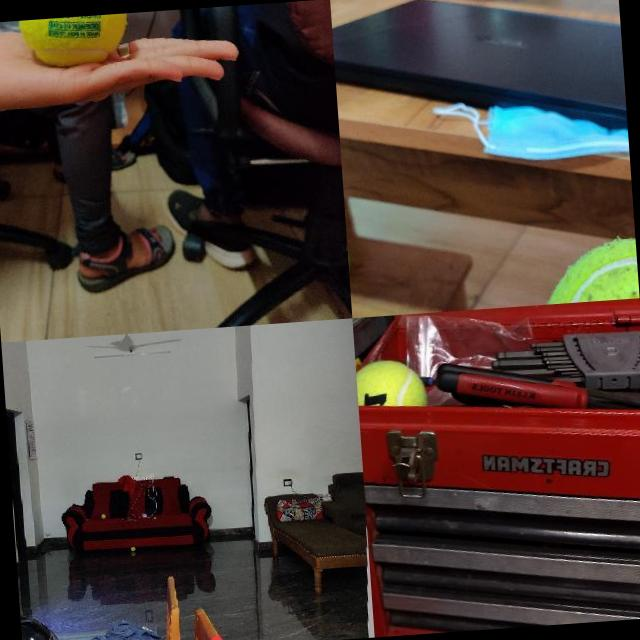Tennis Ball: (19, 13, 130, 66), (356, 357, 428, 402), (101, 514, 105, 518), (132, 546, 136, 550)
